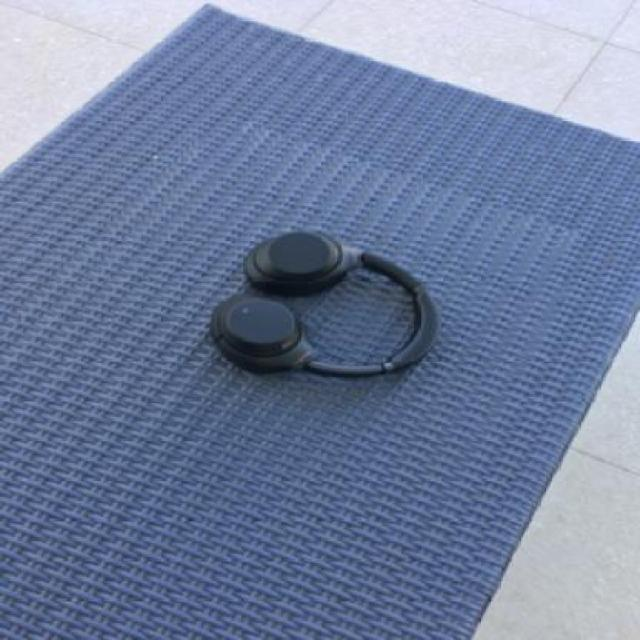earphone: (207, 157, 538, 430)
